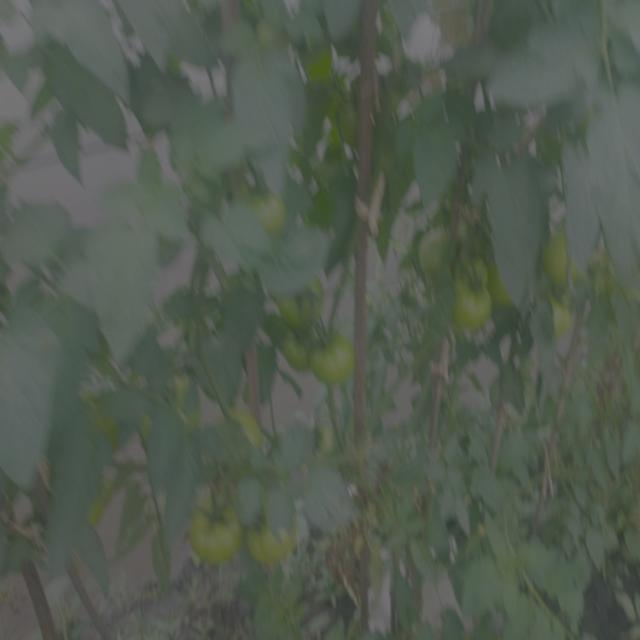tomato: (189, 493, 243, 570), (235, 179, 288, 235), (417, 219, 466, 270), (312, 330, 354, 386), (248, 510, 289, 567), (544, 227, 579, 293), (454, 277, 491, 333), (277, 319, 315, 368), (312, 418, 342, 469), (550, 298, 577, 349)
